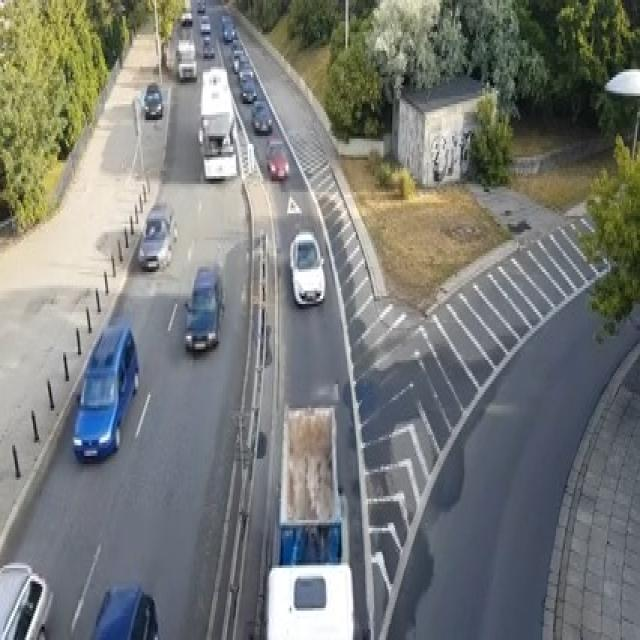car: (72, 317, 138, 464), (87, 582, 161, 638), (0, 560, 53, 637), (183, 264, 224, 352), (288, 229, 324, 307), (136, 203, 176, 269), (264, 138, 288, 178), (141, 83, 162, 117), (251, 99, 272, 133), (177, 56, 197, 80), (240, 80, 257, 101), (221, 16, 234, 40), (237, 67, 254, 85), (202, 35, 214, 56), (200, 13, 210, 32), (180, 11, 192, 24), (197, 0, 206, 11)
